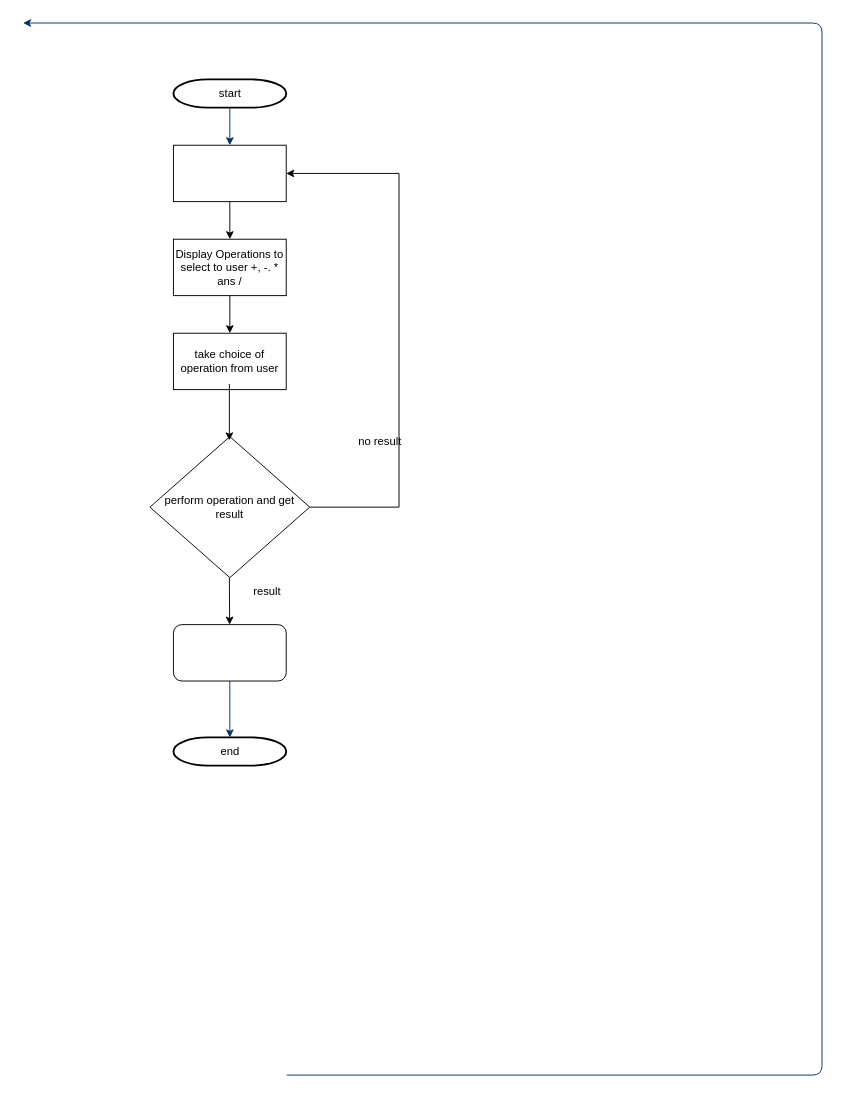
The diagram is 846 pixels wide and 1100 high, and some of its shapes have lost their labels. The centre of each missing label's shape, as x and y in pixels:
"result print" belongs at pixel 229 652.
"Take 2 numbers from user" belongs at pixel 229 173.
